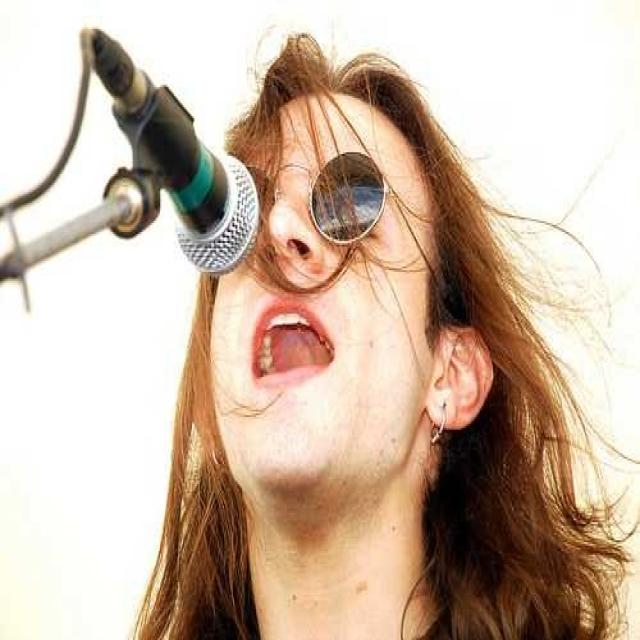microphone: (90, 30, 256, 273)
